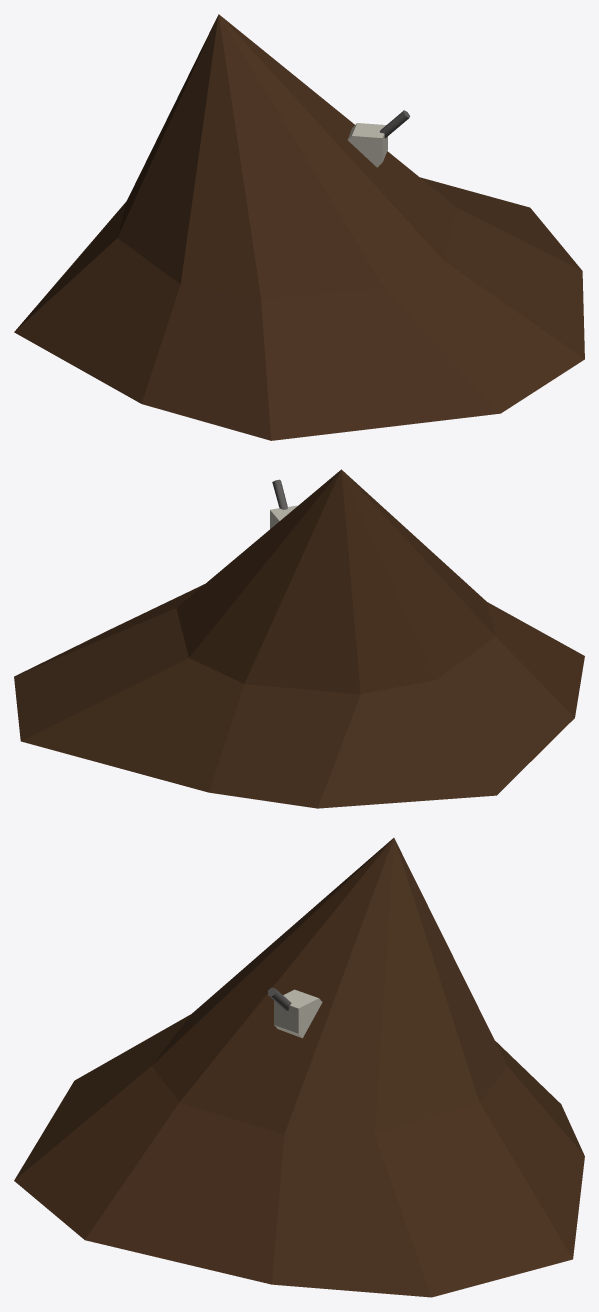
File: Mountain_01.FBX
3 views of the same model, one above another, from view 1: azimuth 30°, elevation 25°; view 2: azimuth 150°, elevation 25°; view 3: azimuth 270°, elevation 25° (orthographic). The views are drawn at different scales.
Visible parts, largest first — view 1: Mountain_01; view 2: Mountain_01; view 3: Mountain_01.
Part boxes in pixels (x1,y1,x2,y2): Mountain_01: (14, 14, 584, 440); Mountain_01: (14, 469, 584, 808); Mountain_01: (14, 838, 584, 1297).
Size of the model in its own units: 75.7 by 40.39 by 70.88.
